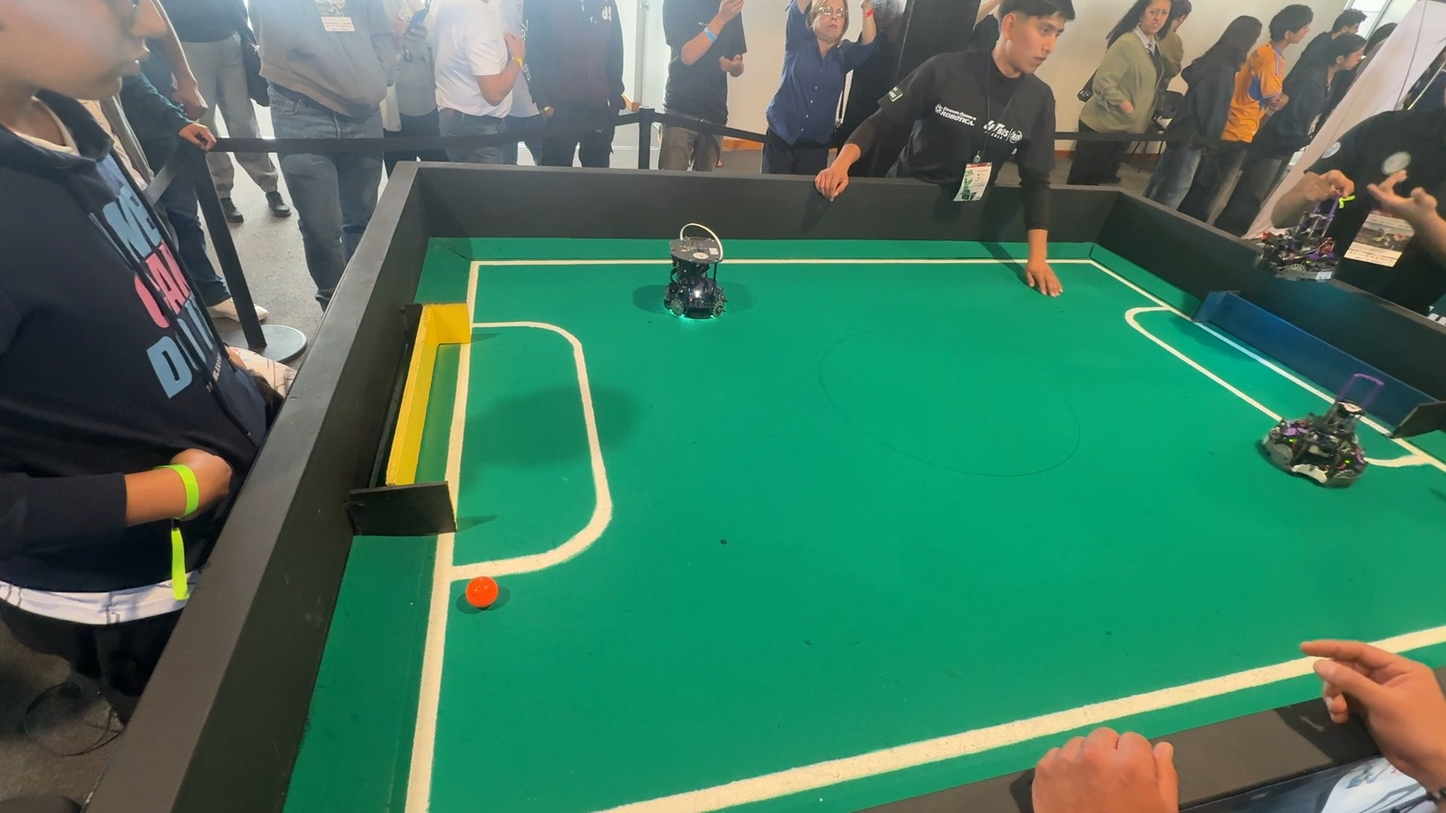Robot: (1245, 396, 1395, 495), (641, 222, 747, 338)
pelota: (457, 570, 510, 614)
